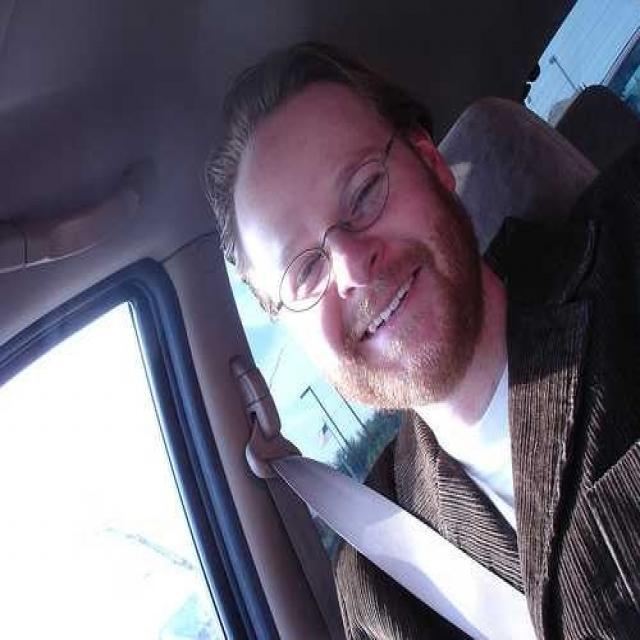seatbelt: (222, 409, 468, 606)
